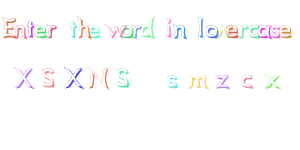E: (1, 15, 18, 39)
N: (87, 64, 111, 90)
S: (39, 65, 56, 89), (114, 66, 131, 89)
X: (13, 64, 36, 90), (62, 65, 85, 89)
a: (258, 23, 271, 39)
c: (240, 73, 254, 89), (248, 24, 259, 39)
d: (139, 15, 158, 40)
e: (87, 23, 101, 41), (34, 23, 47, 39), (225, 24, 238, 39), (281, 23, 292, 39)
h: (77, 14, 90, 40)
i: (164, 16, 174, 38)
l: (194, 14, 205, 39)
m: (188, 72, 209, 90)
n: (172, 23, 188, 40), (13, 24, 27, 39)
o: (204, 23, 218, 38), (120, 23, 133, 39)
r: (45, 23, 58, 39), (131, 22, 143, 39), (237, 23, 248, 38)
s: (165, 72, 179, 90), (270, 24, 280, 39)
t: (26, 18, 36, 39), (67, 19, 78, 38)
w: (104, 22, 125, 39), (214, 23, 230, 38)
x: (264, 73, 282, 90)
z: (214, 72, 231, 90)
